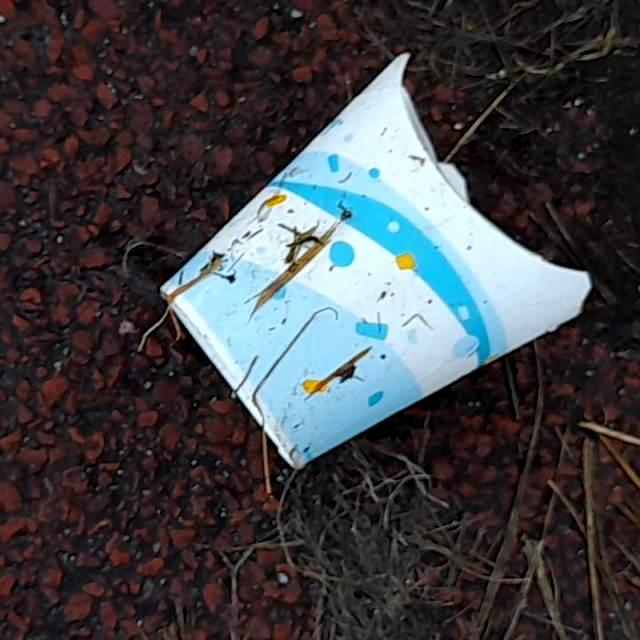Paper: (155, 47, 593, 477)
